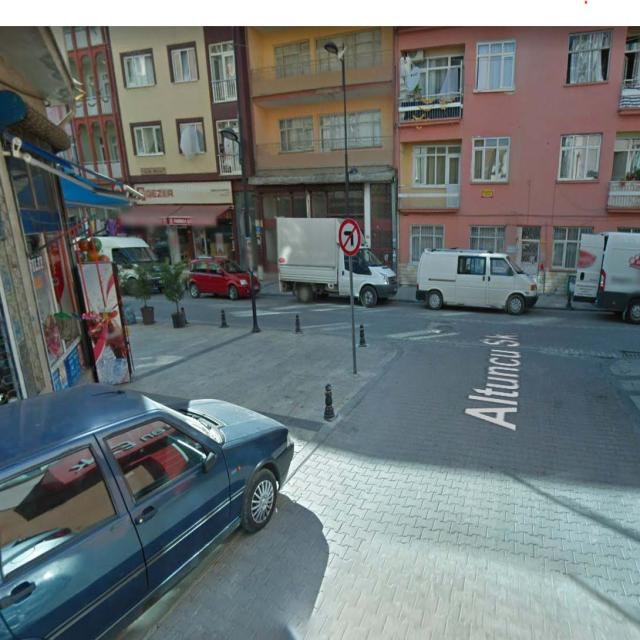soladonulmez: (338, 219, 361, 256)
